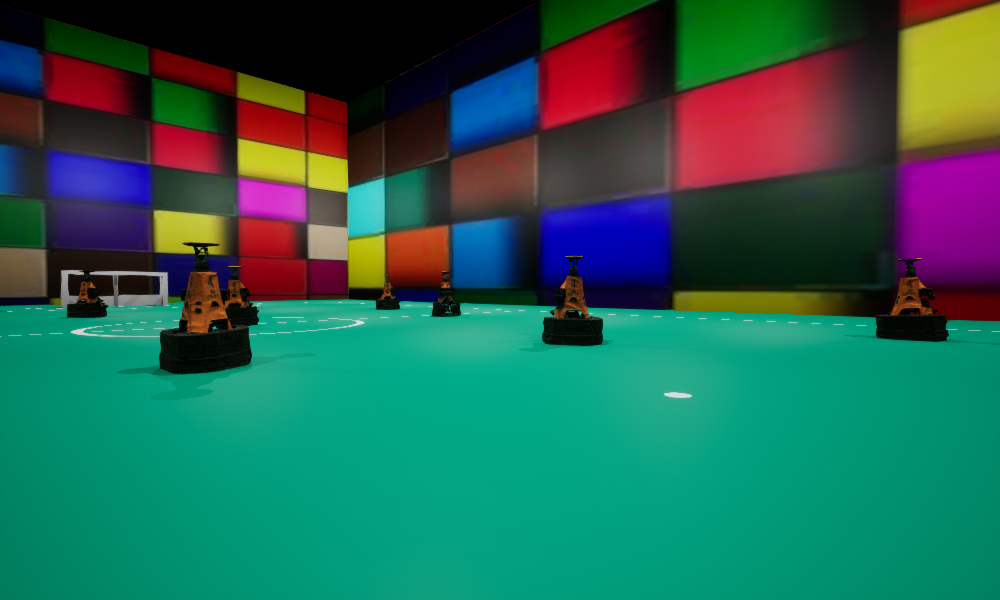o: (159, 242, 251, 373), (876, 258, 948, 341), (542, 256, 602, 345), (215, 266, 258, 325), (67, 271, 107, 317), (432, 271, 460, 316), (376, 275, 399, 309), (222, 276, 240, 306)
